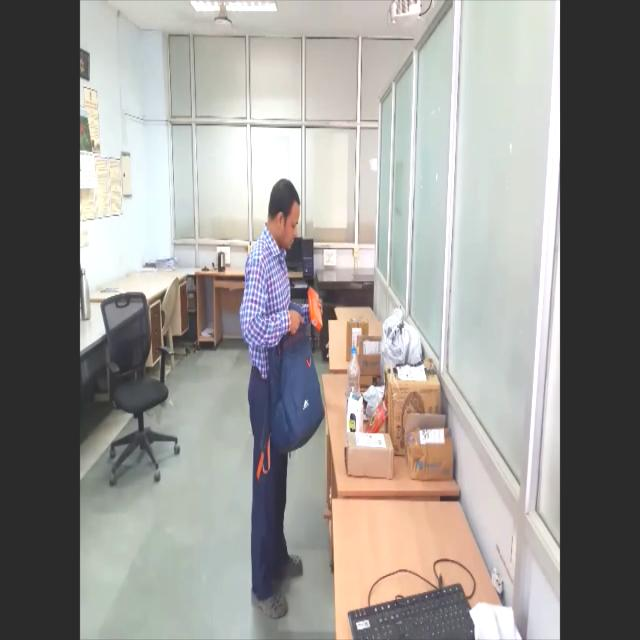shoplifting: (237, 176, 328, 626)
